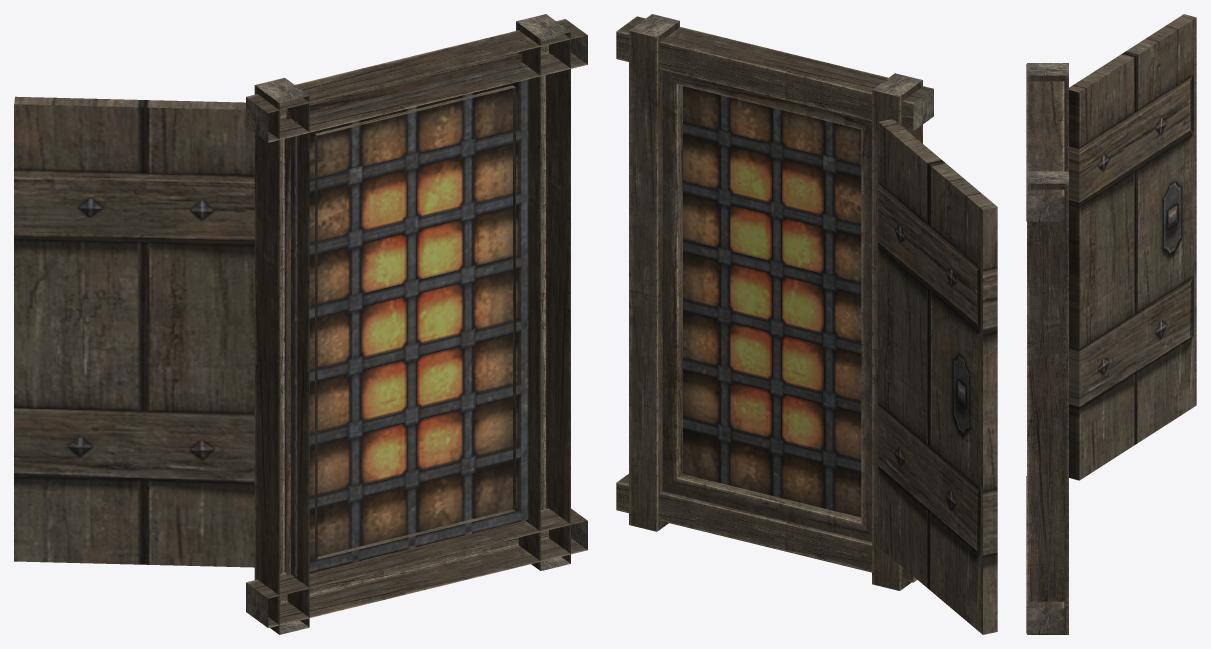
The model's file is Window8B.fbx.
3 views of the same model, side by side, from view 1: azimuth 30°, elevation 25°; view 2: azimuth 150°, elevation 25°; view 3: azimuth 270°, elevation 25° (orthographic). The views are drawn at different scales.
Visible parts, largest first — view 1: polySurface4063; view 2: polySurface4063; view 3: polySurface4063.
Boxes of the visible parts, box(x1,y1,x2,y2) form: polySurface4063: box(14, 14, 587, 634); polySurface4063: box(616, 14, 997, 634); polySurface4063: box(1026, 14, 1196, 634).
Size of the model in its own units: 2.94 by 3.11 by 1.06.
